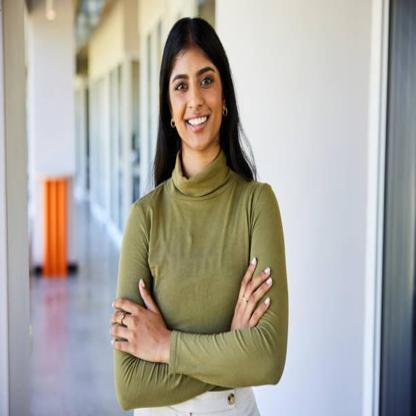person: (110, 12, 296, 416)
